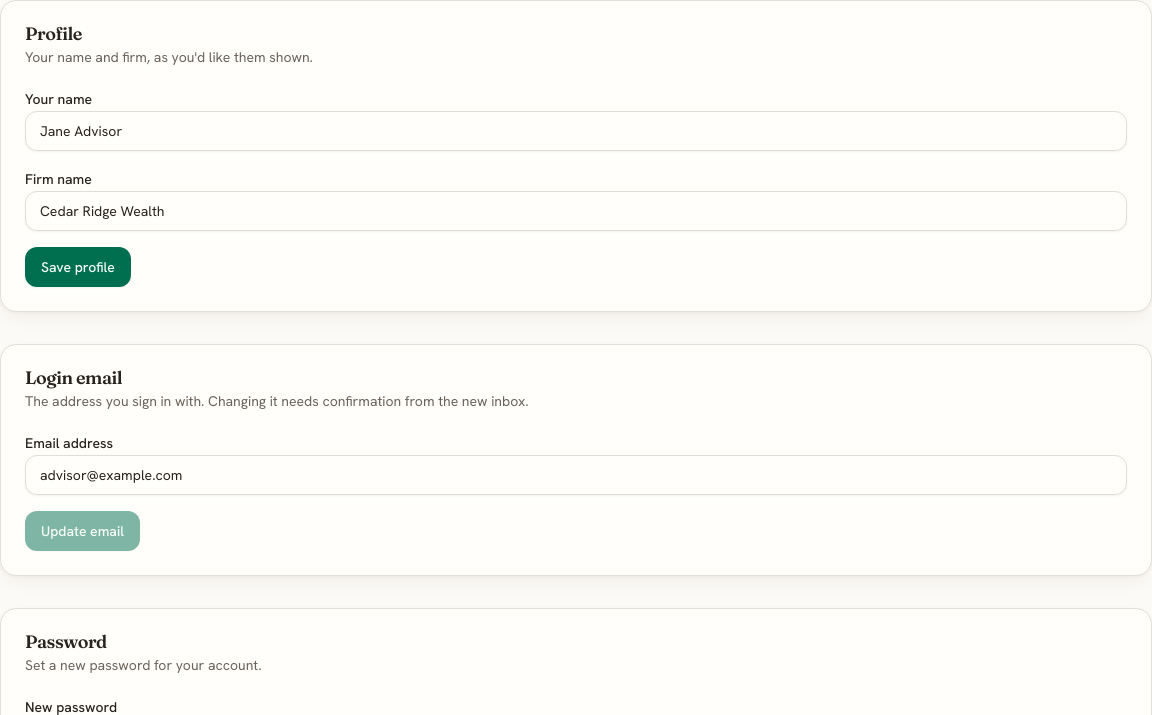
it: <SettingsForm /> › saves the profile and confirms inline
In the field labelled "Your name": coordinates (576, 131) [25,111,1127,151], type "Jane Q. Advisor"
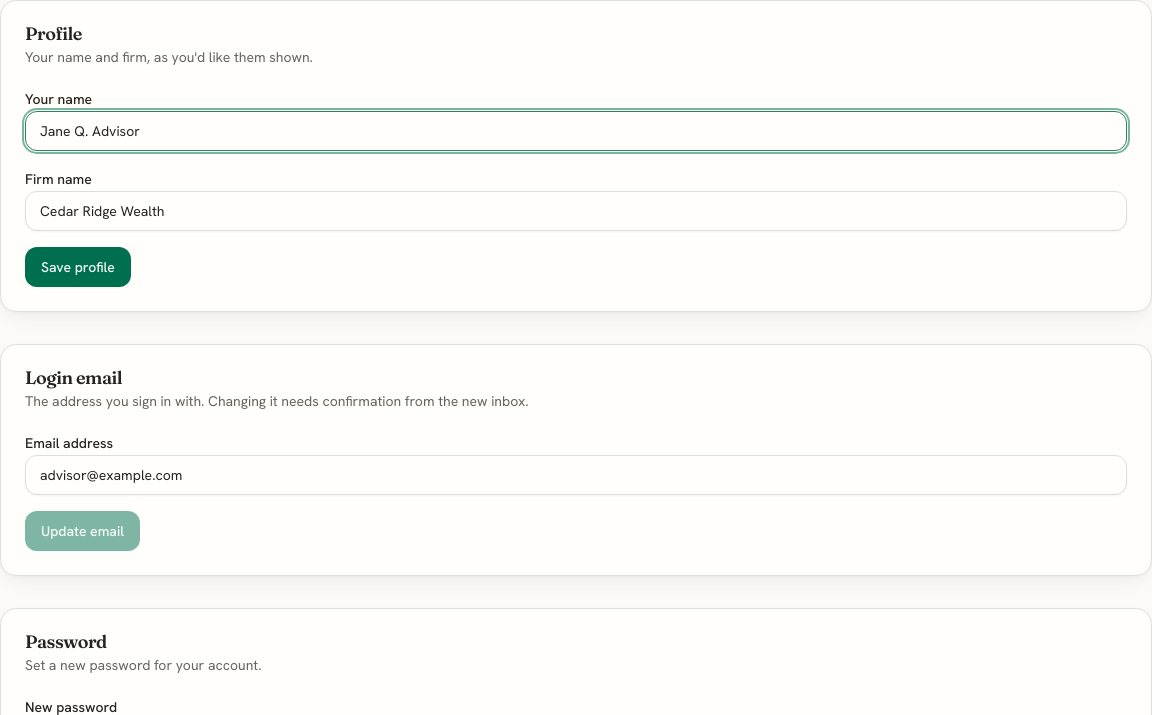
Click the button "Save profile": coordinates (78, 267) [25,247,131,287]
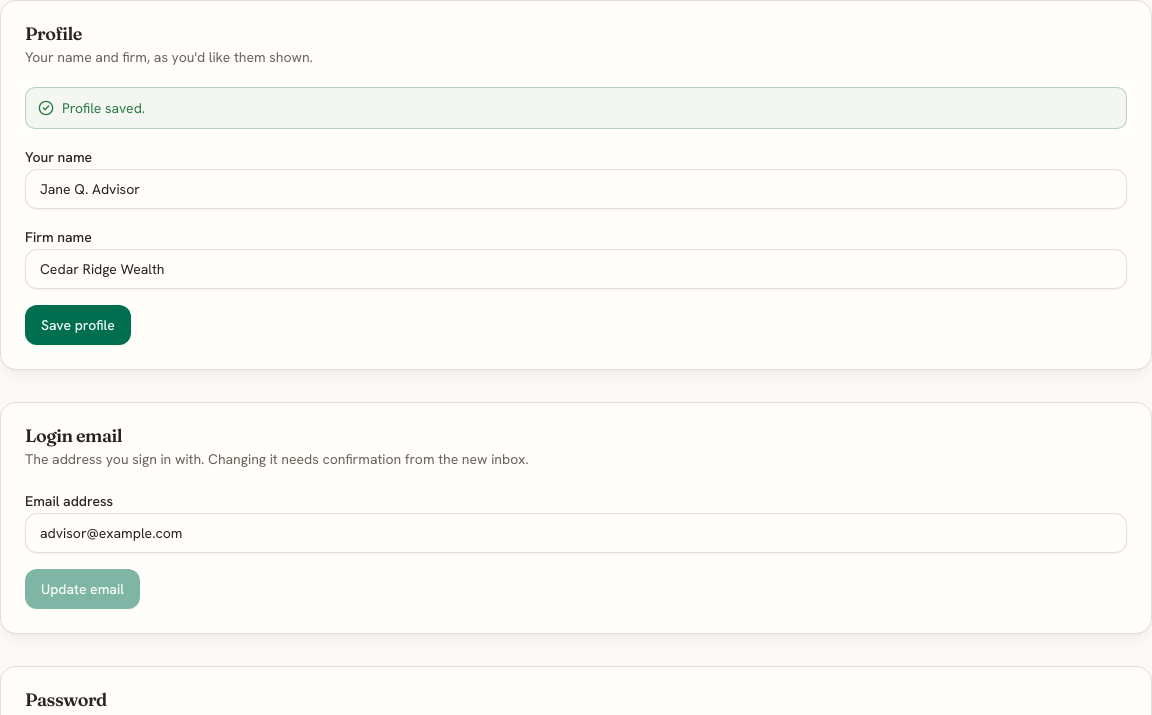
Check: the text "Profile saved." is shown, box [62,98,145,118]
